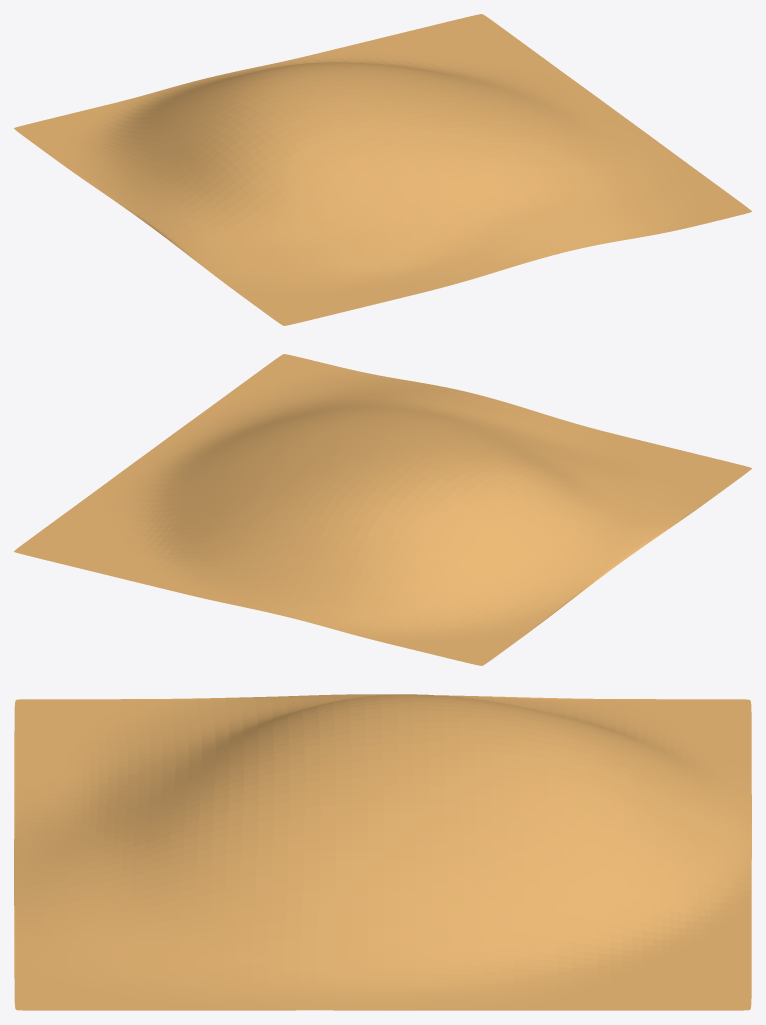
Rendered from Arena002.fbx.
The picture shows the model from 3 angles, top to bottom: view 1: azimuth 30°, elevation 25°; view 2: azimuth 150°, elevation 25°; view 3: azimuth 270°, elevation 25°; orthographic projection. The views are drawn at different scales.
Parts seen in each view (by area): view 1: Plane; view 2: Plane; view 3: Plane.
Part boxes in pixels (box(x1,y1,x2,y2)): Plane: box(14, 14, 751, 325); Plane: box(14, 354, 751, 665); Plane: box(14, 694, 751, 1010).
Size of the model in its own units: 318 by 44.45 by 318.
